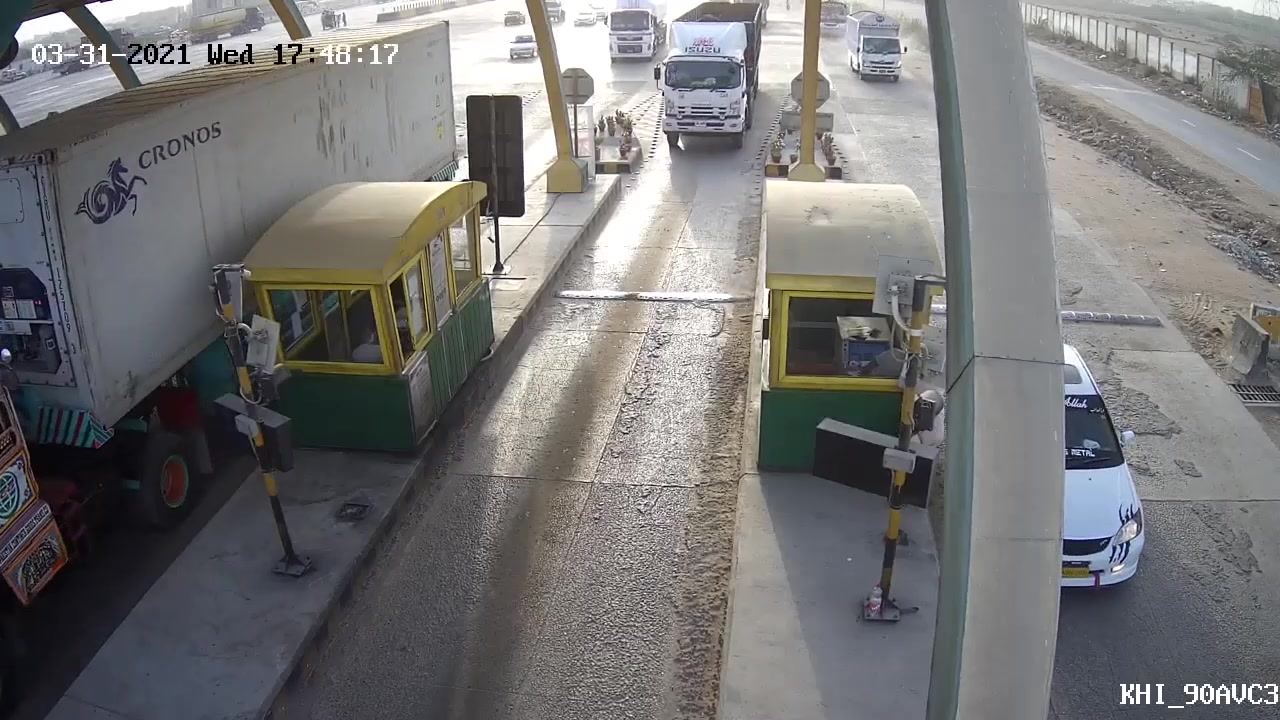F5: (642, 13, 755, 152)
